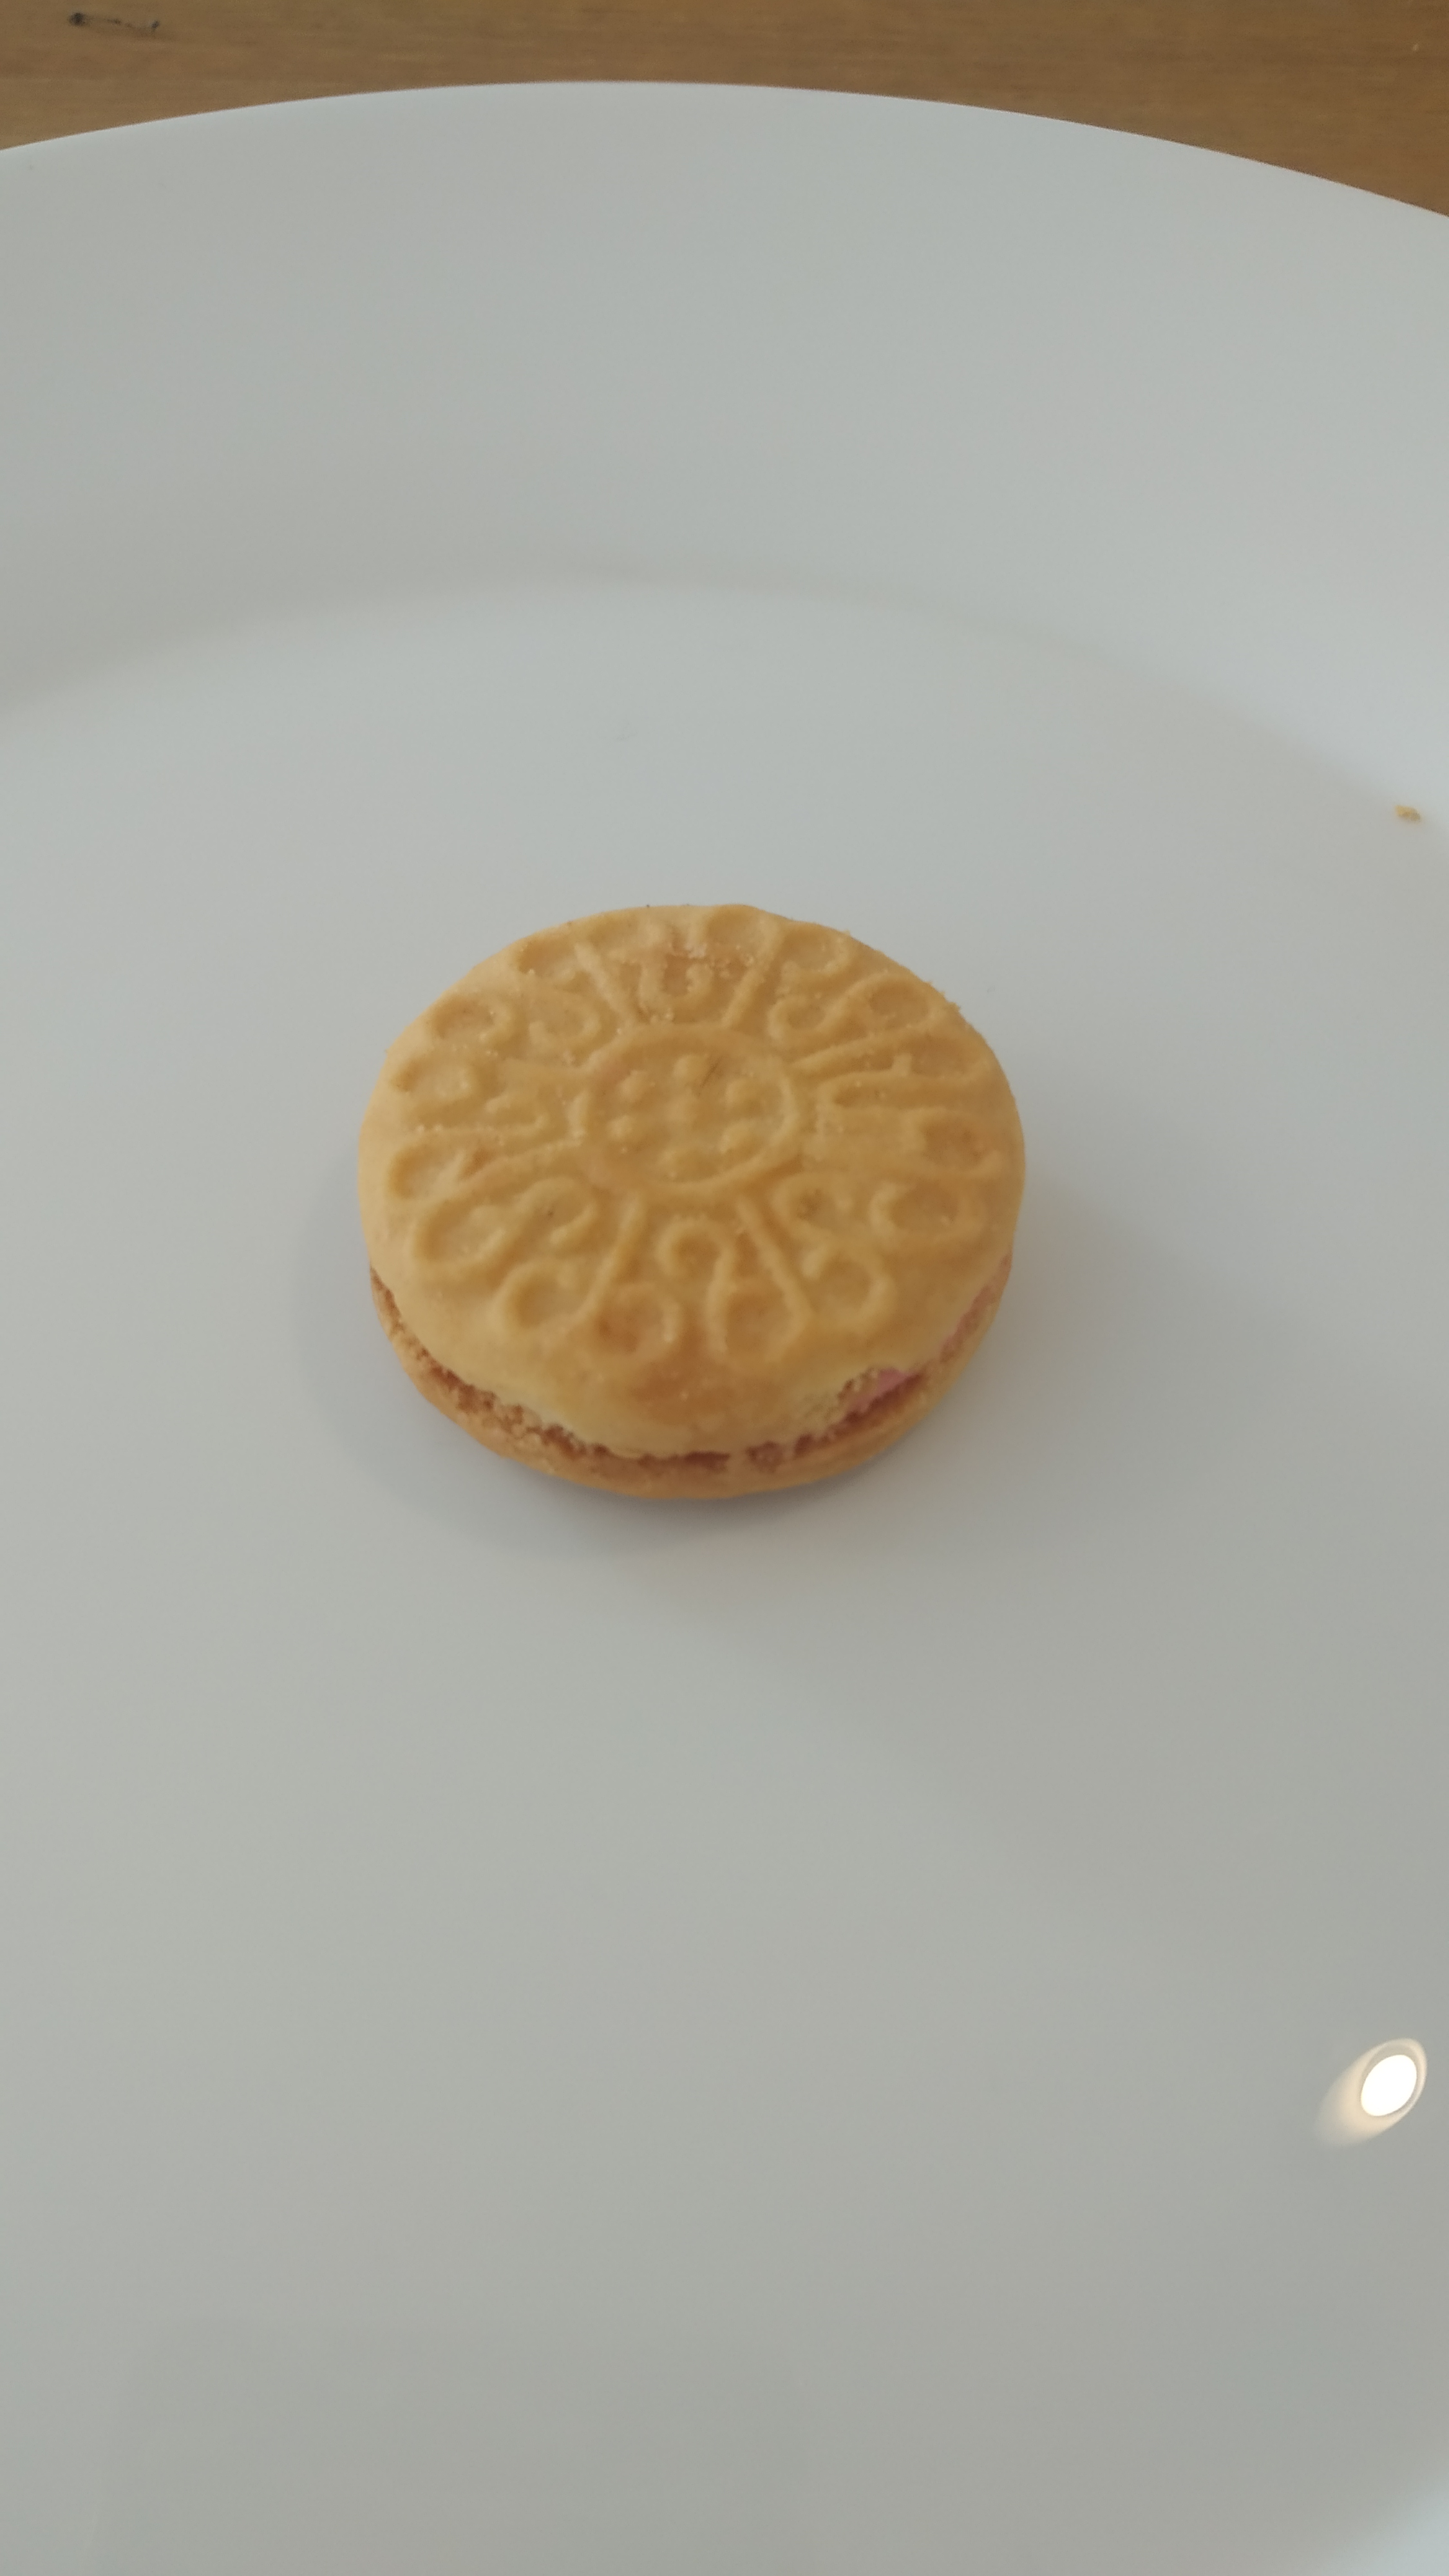lulu: (354, 902, 1030, 1499)
